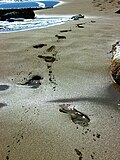human_foot_print: (4, 106, 39, 159), (33, 43, 56, 89), (38, 45, 56, 89), (59, 104, 89, 126), (109, 41, 119, 84), (92, 0, 119, 10), (20, 75, 42, 87), (47, 63, 56, 90), (38, 55, 55, 62), (0, 83, 9, 92), (75, 148, 82, 159), (33, 43, 46, 48), (71, 14, 83, 19), (0, 84, 9, 90), (46, 45, 55, 51), (55, 34, 65, 39), (59, 29, 71, 32), (76, 23, 84, 27), (0, 103, 6, 107)
